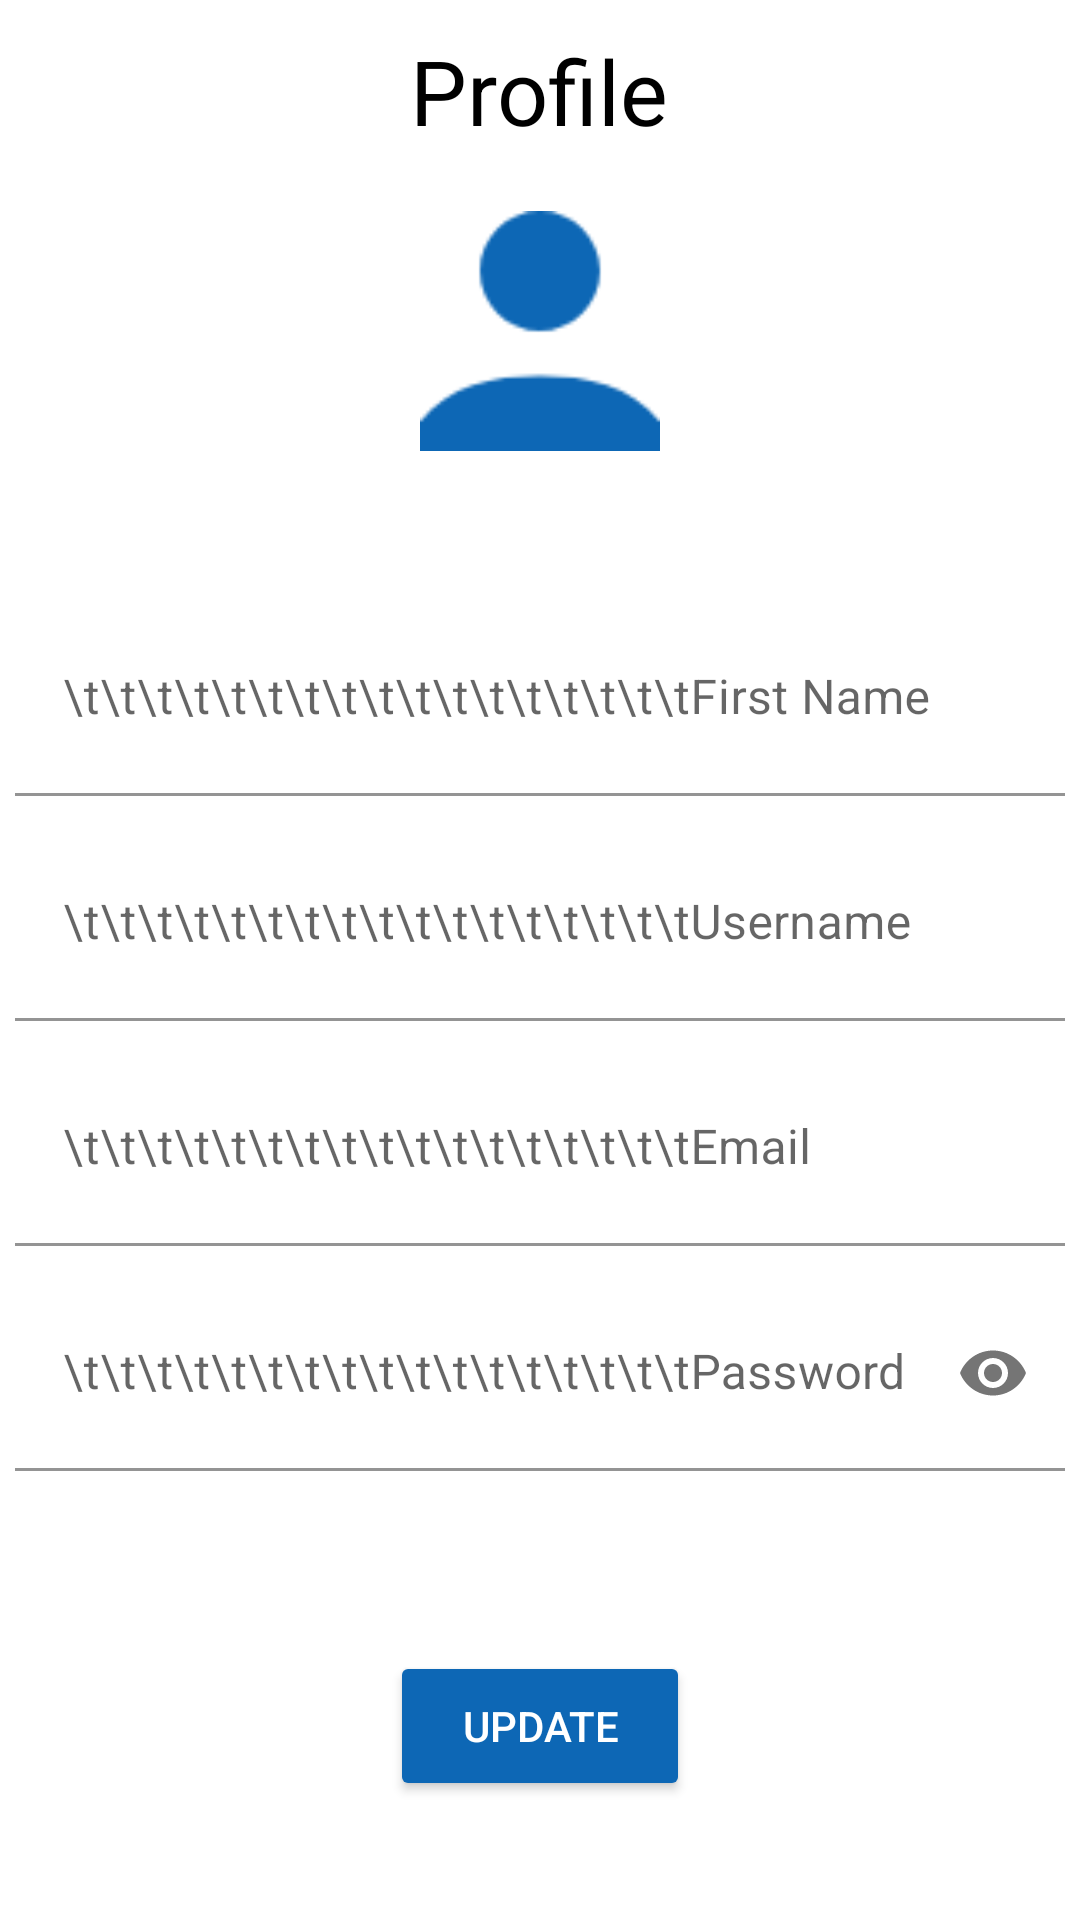

Screen size 1080px x 1920px. Icon name, then its center in pixels as (x,y):
user: (540,331)
